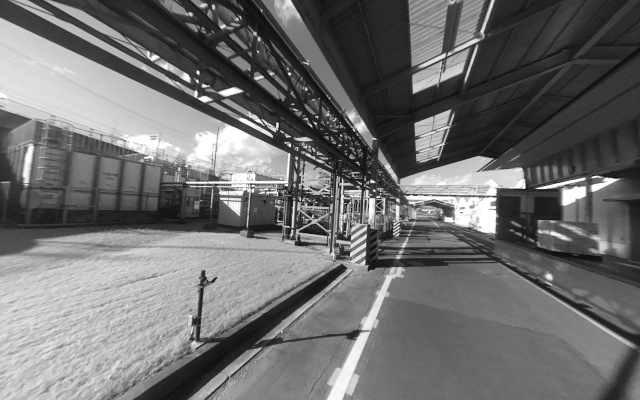bollard: (352, 223, 378, 269), (391, 216, 404, 240)
